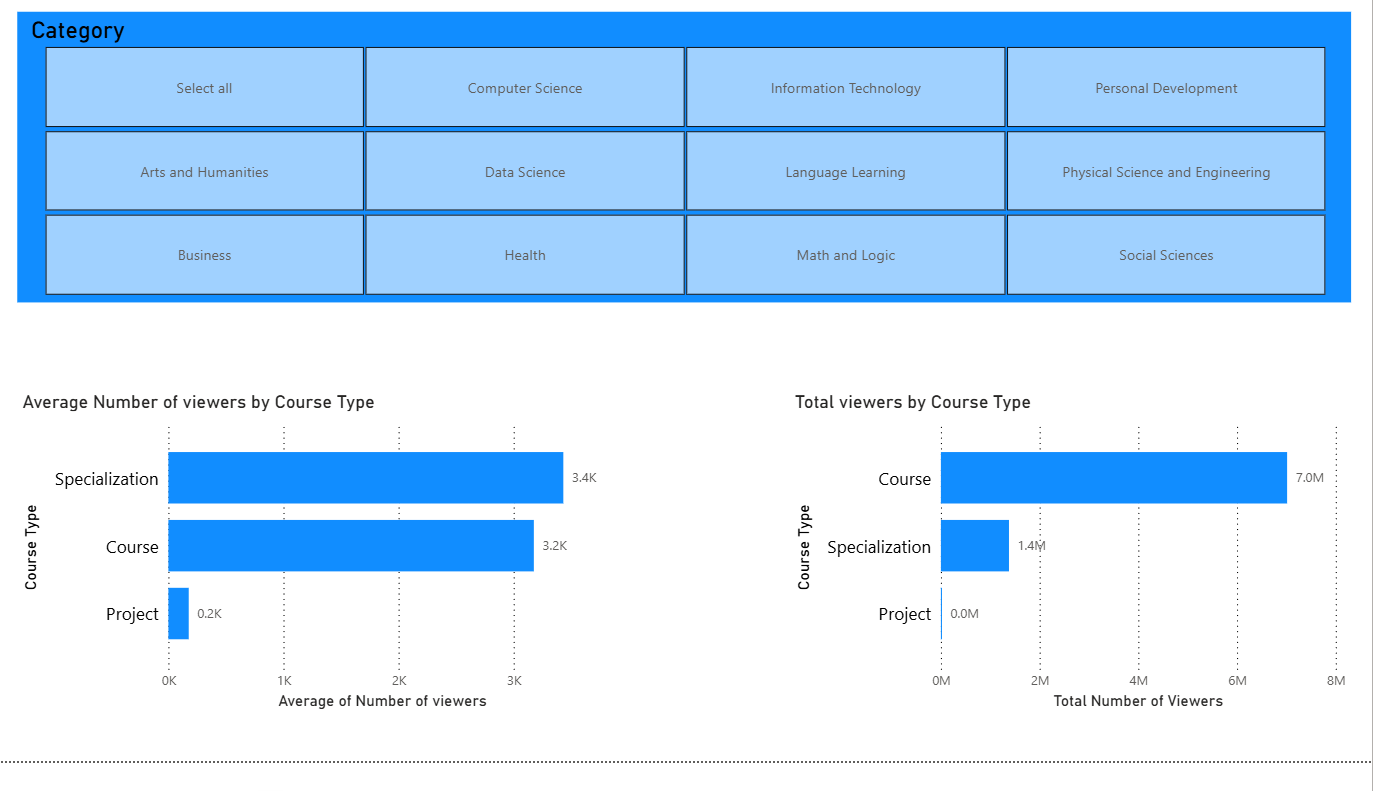

This screenshot's page, from the dashboard's own definition file:
{"tool":"powerbi","page":{"name":"Q-2","canvas":[1280,720],"ordinal":1},"visuals":[{"type":"slicer","fields":{"Values":["Online_Courses.Category"]},"box":[19.6,22,1241.2,270.2],"z":0},{"type":"barChart","title":"Average Number of viewers by Course Type","fields":{"Y":["Avg(Online_Courses.Number of viewers)"],"Category":["Online_Courses.Course Type"]},"box":[19.8,374.4,551.2,302.3],"z":1000},{"type":"barChart","title":"Total viewers by Course Type","fields":{"Y":["Sum(Online_Courses.Number of viewers)"],"Category":["Online_Courses.Course Type"]},"box":[738.4,374.4,522.1,302.3],"z":2000}]}

Visuals, with their boxes in screenshot pixels (x1, y1, x2, y2), scaled from the page's 1280x720 canvas onto the 1380x791 screenshot:
slicer - Online_Courses.Category: bbox=(21, 24, 1359, 321)
"Average Number of viewers by Course Type" barChart: bbox=(21, 411, 616, 743)
"Total viewers by Course Type" barChart: bbox=(796, 411, 1359, 743)
